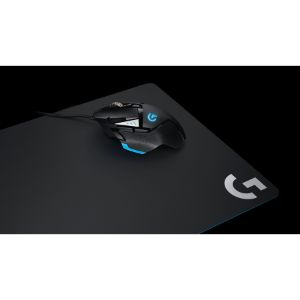mouse: (78, 99, 189, 162)
